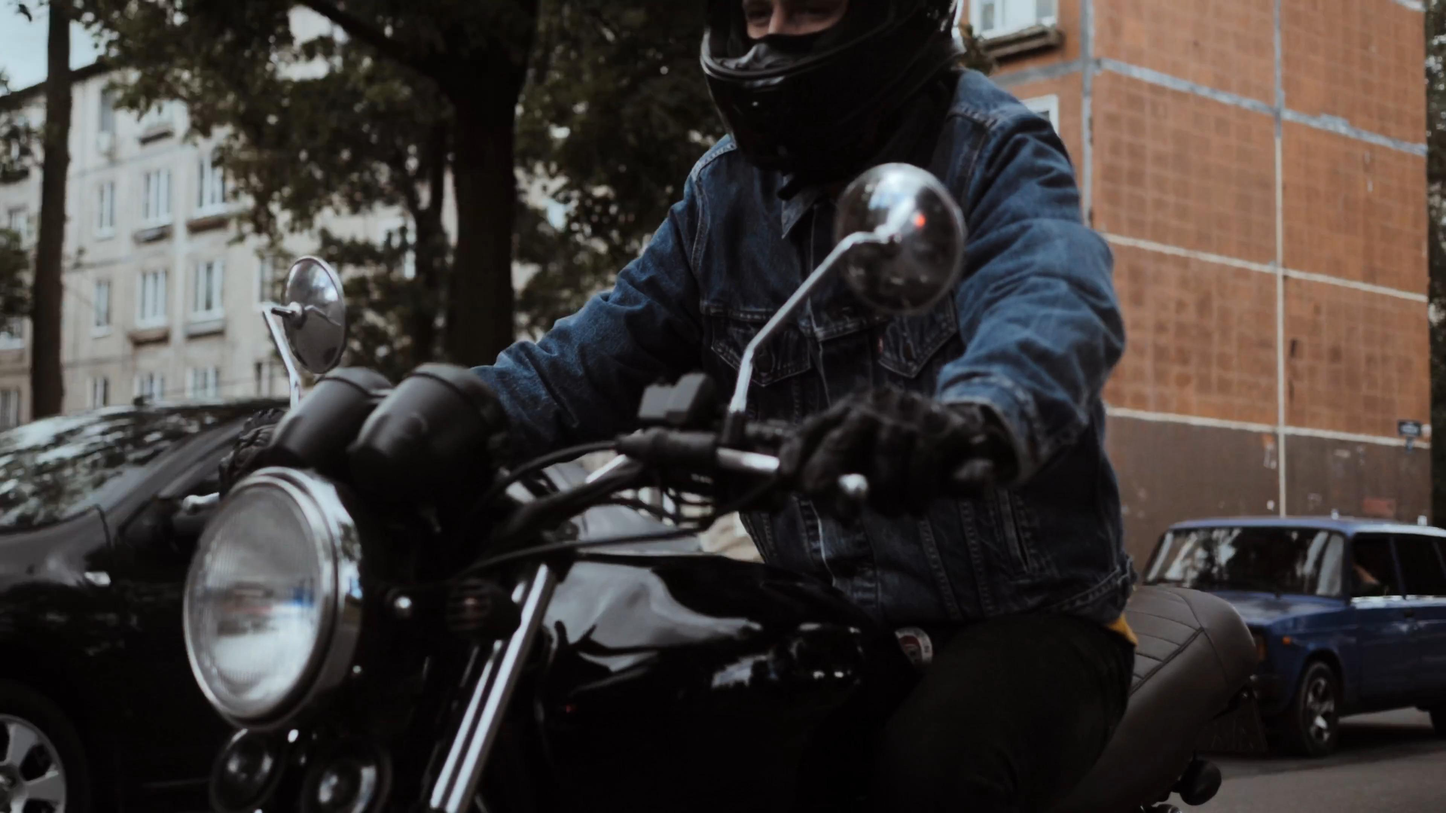driver: (182, 0, 1261, 813)
helmet: (700, 0, 969, 202)
